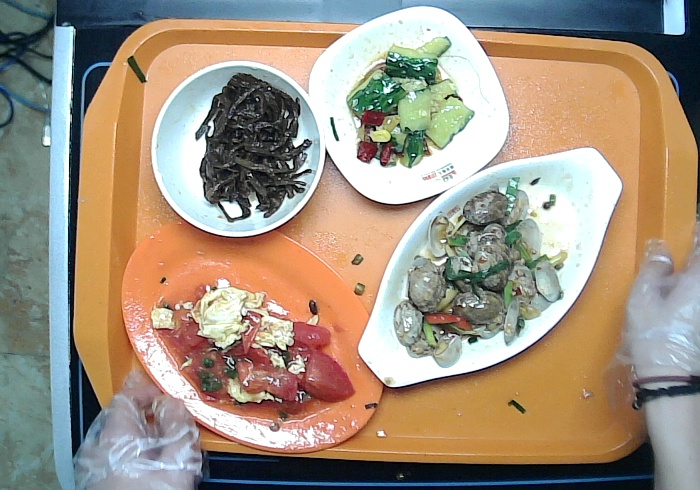NLDX-Bai_Se_Xiao_Fang_Die: (307, 4, 510, 204)
NLDX-Fan_Wan: (151, 60, 325, 237)
NLDX-Ju_Se_Pan: (121, 218, 384, 455)
NLDX-Yu_Pan: (357, 148, 624, 387)
